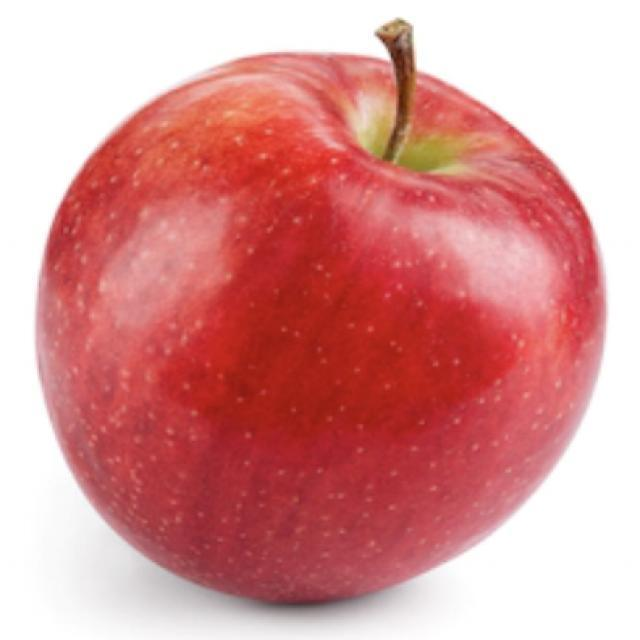Fresh Apple: (54, 48, 584, 587)
